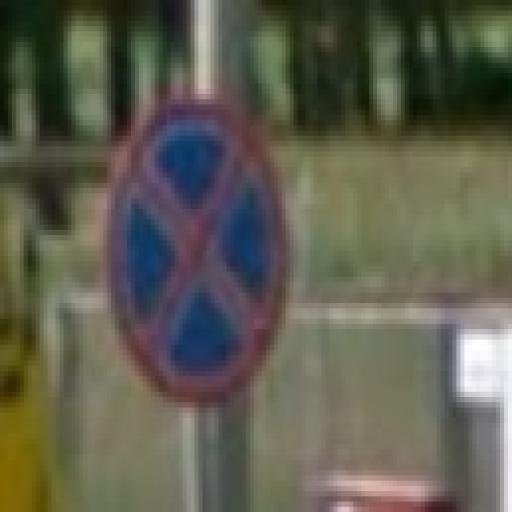traffic_sign: (104, 95, 295, 409)
